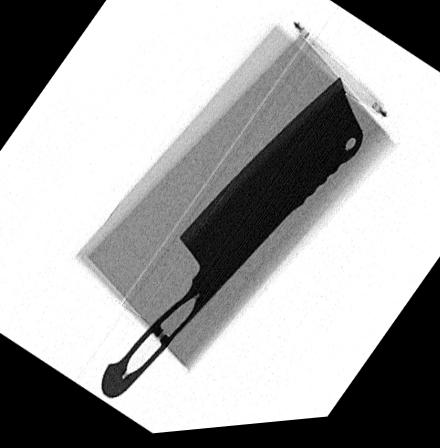Knife: (100, 82, 364, 402)
